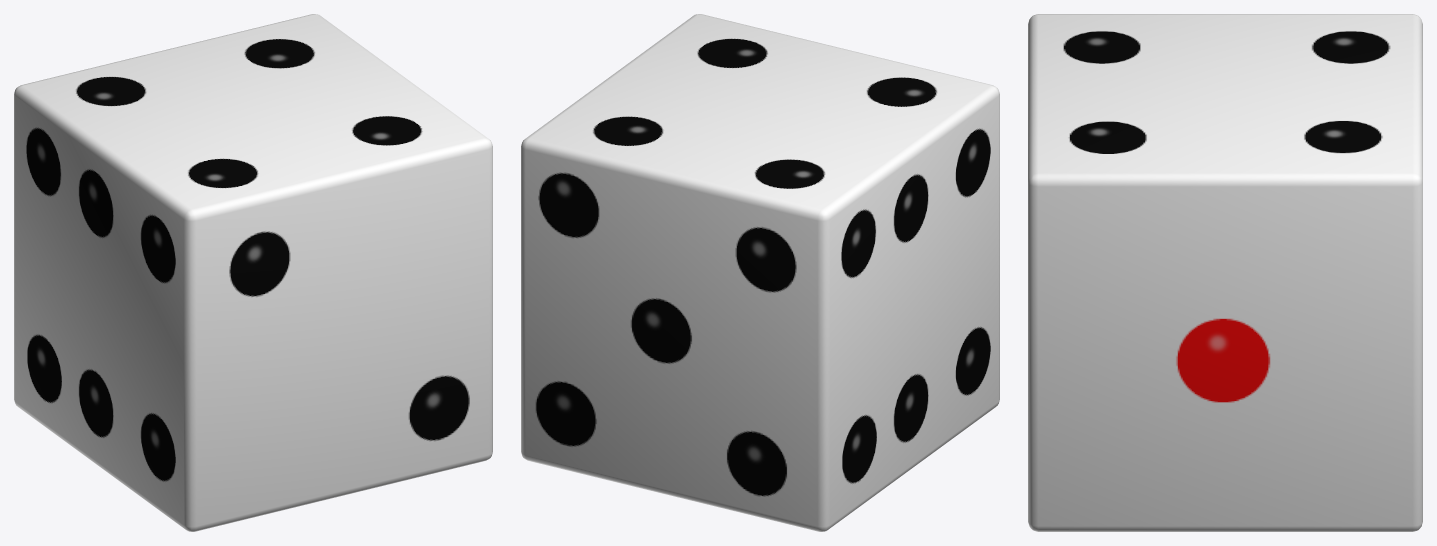
Rendered from Dice.fbx.
3 views of the same model, side by side, from view 1: azimuth 30°, elevation 25°; view 2: azimuth 150°, elevation 25°; view 3: azimuth 270°, elevation 25° (orthographic). The views are drawn at different scales.
Parts seen in each view (by area): view 1: Cube; view 2: Cube; view 3: Cube.
Boxes of the visible parts, x1=… form: Cube: x1=14, y1=14, x2=492, y2=531; Cube: x1=521, y1=14, x2=999, y2=531; Cube: x1=1028, y1=14, x2=1422, y2=531.
Bounding box in the file's own units: 1 × 1 × 1.
